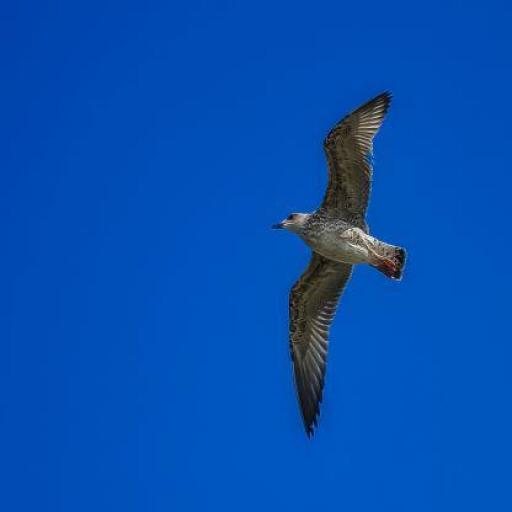bird: (268, 92, 408, 442)
